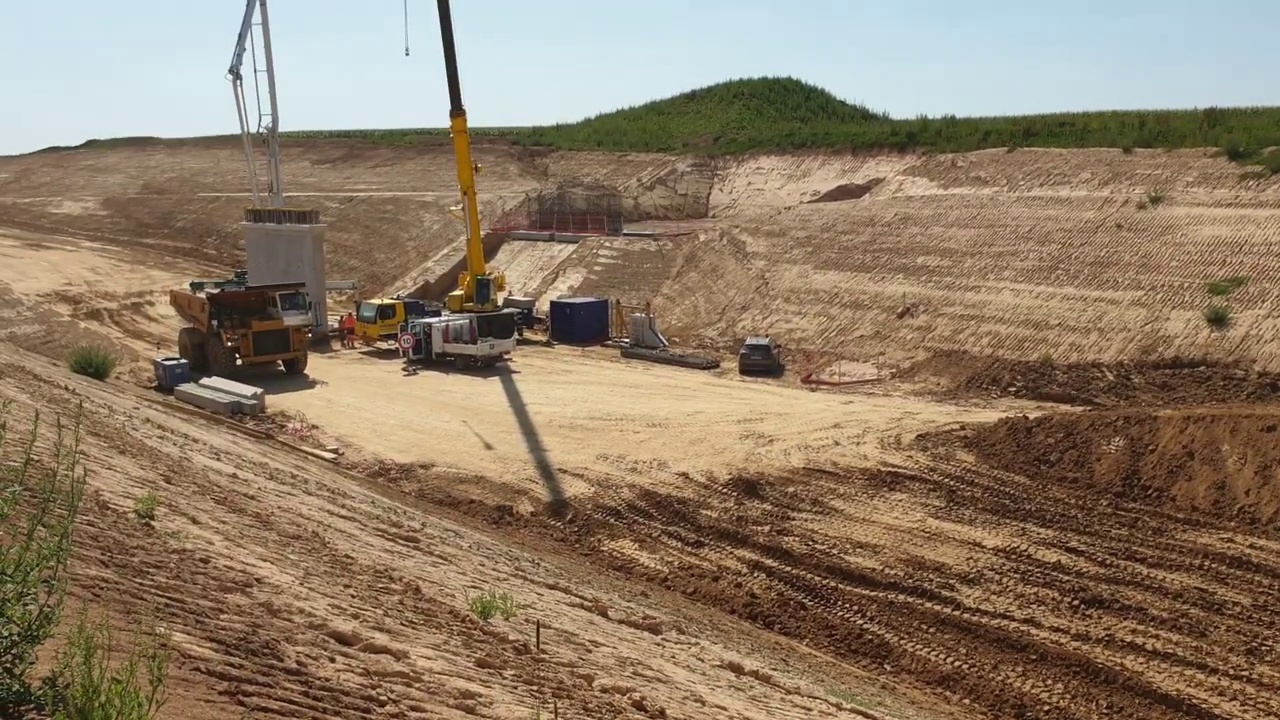crane: (357, 3, 532, 375)
truck: (161, 267, 316, 388)
worker: (335, 306, 363, 358)
